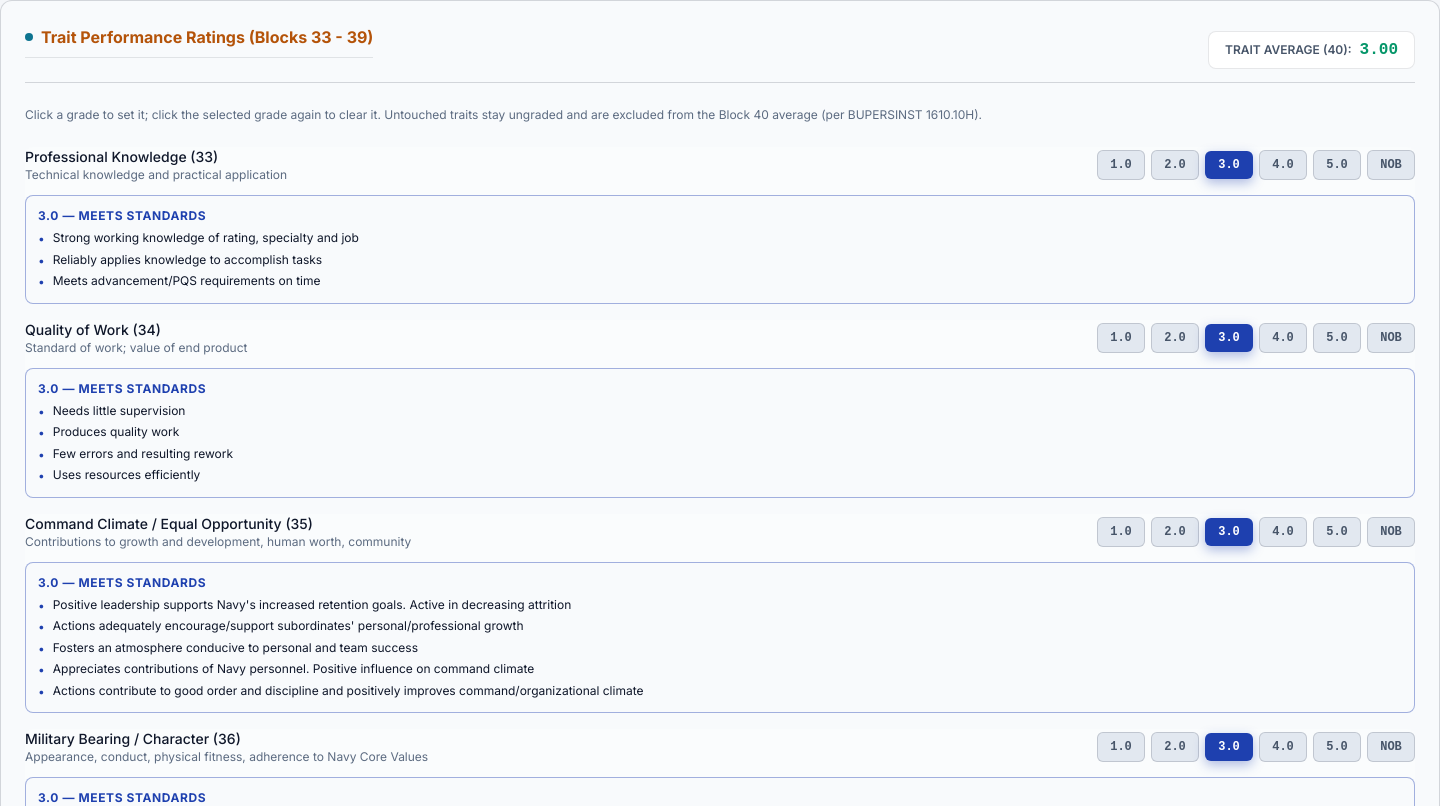
Trait section average (Block 40) › accumulates grades across traits instead of collapsing to the last one clicked
Step 1. Click the button named "grade 5.0" → {"x": 1337, "y": 165}, box top-left (1313, 150), bottom-right (1361, 180)
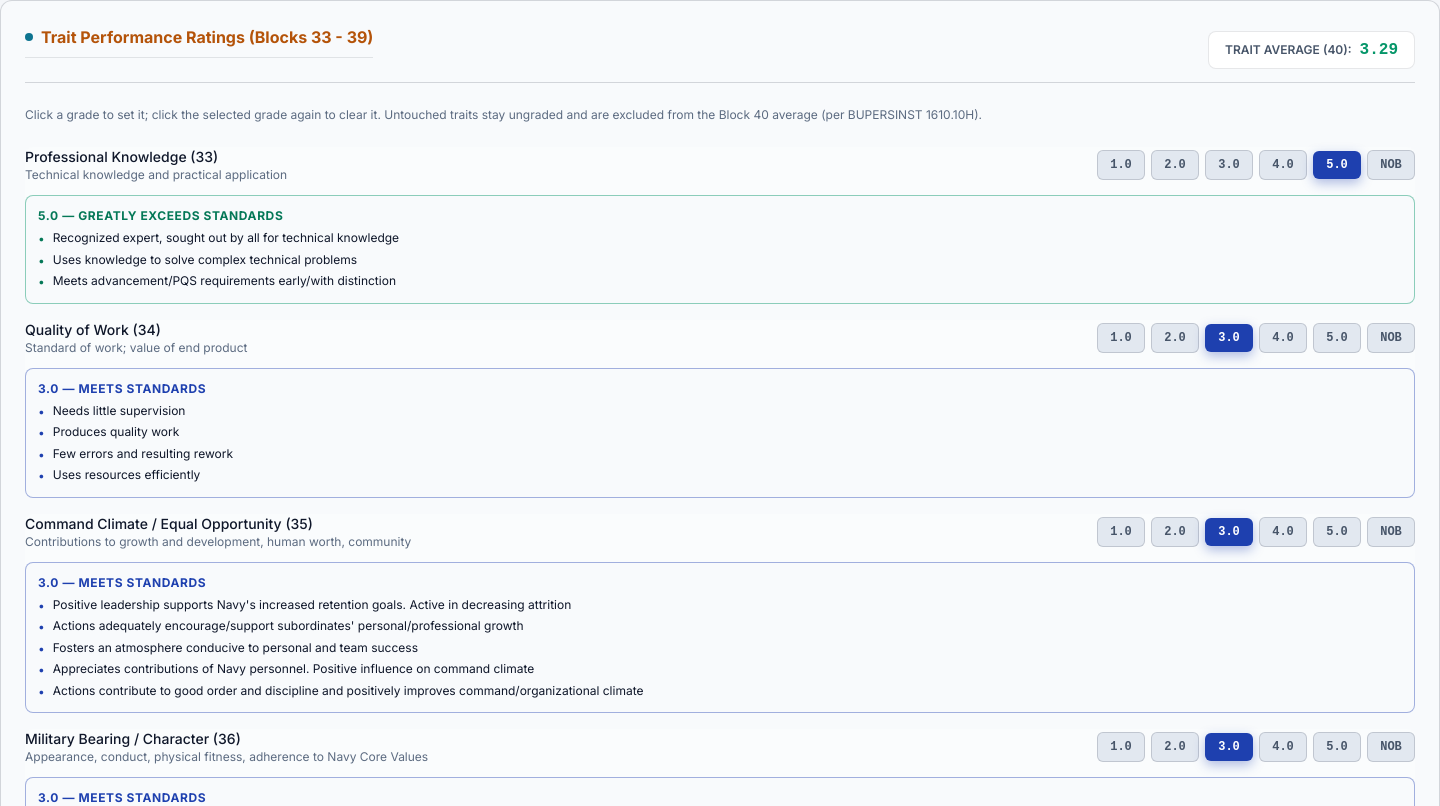
Step 2. Click the button named "grade 1.0" → {"x": 1121, "y": 338}, box top-left (1097, 322), bottom-right (1145, 352)
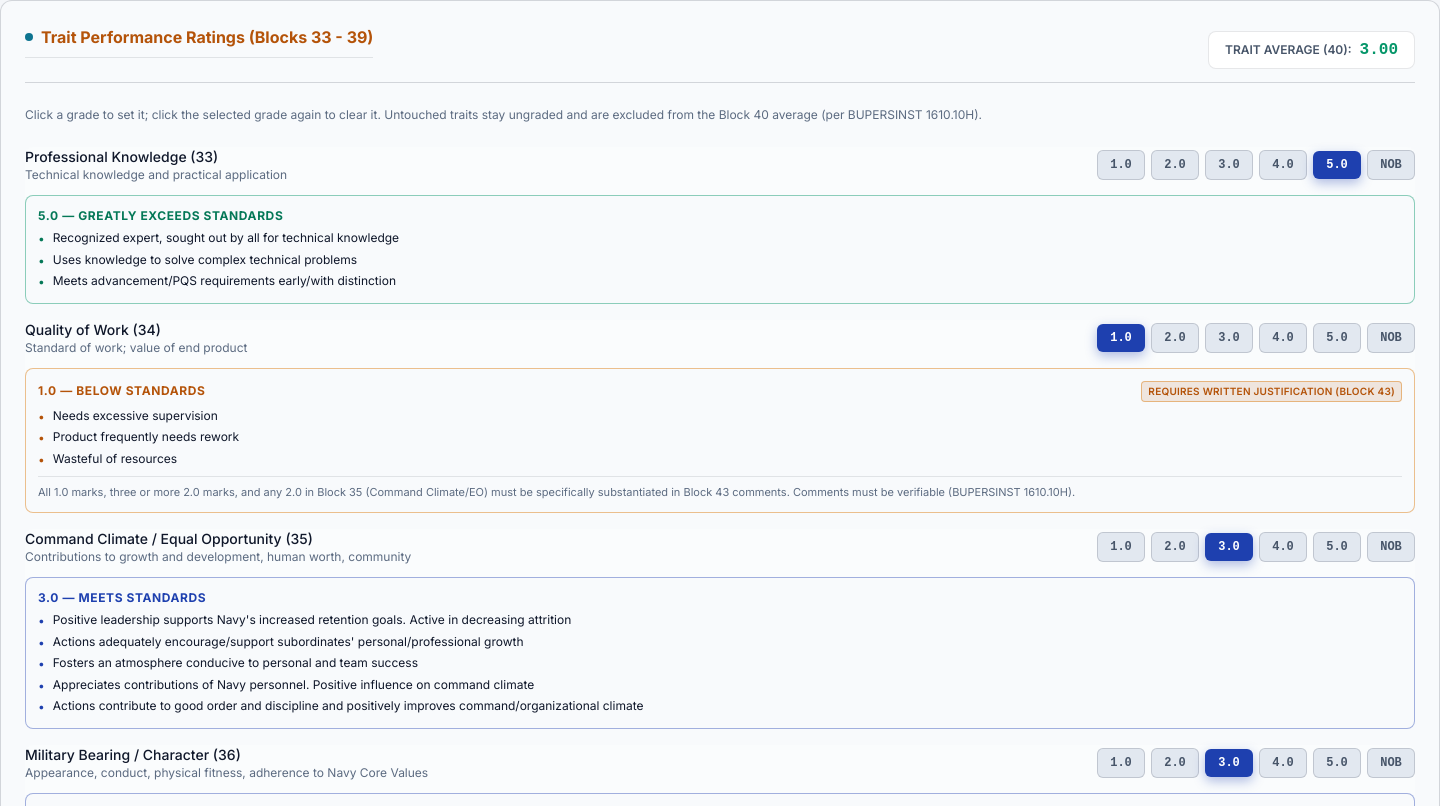
Now the text "3.00" is shown, box top-left (1360, 38), bottom-right (1398, 62)
